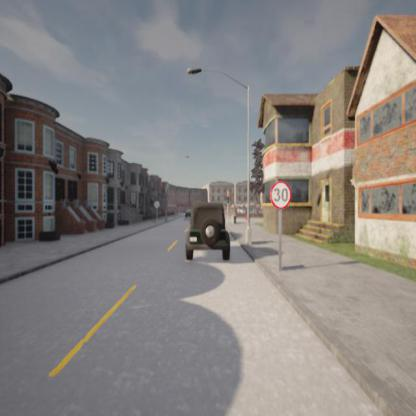traffic_sign_30: (271, 182, 290, 208)
vehicle: (184, 202, 232, 262)
